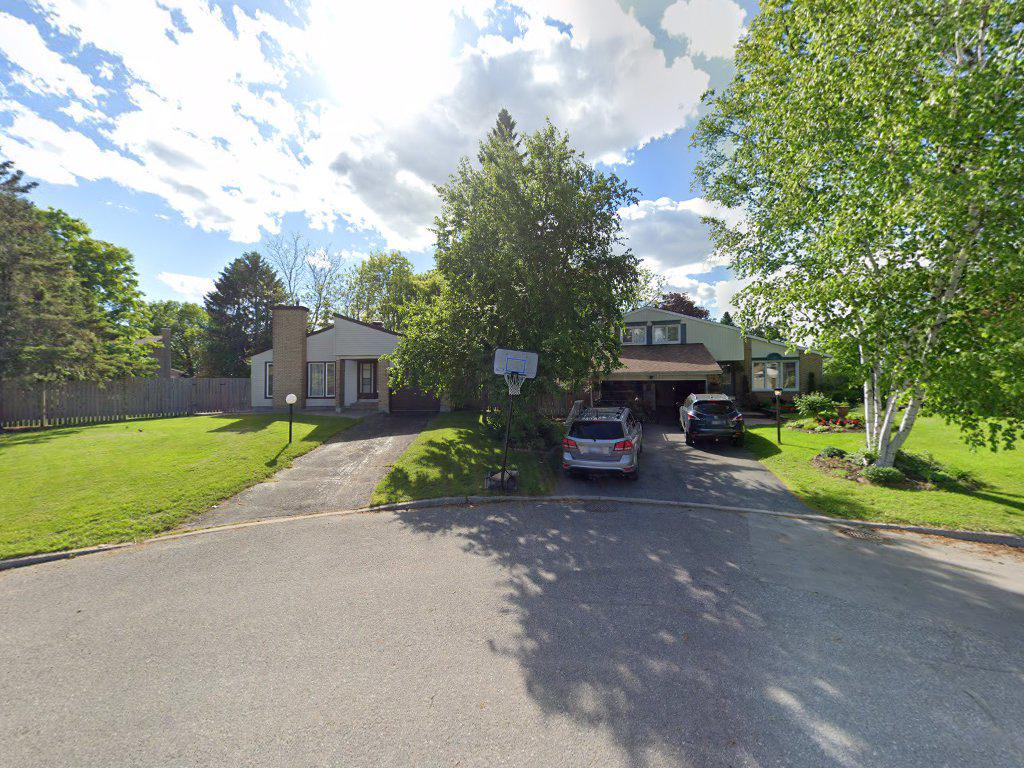trunk: (860, 377, 919, 487)
